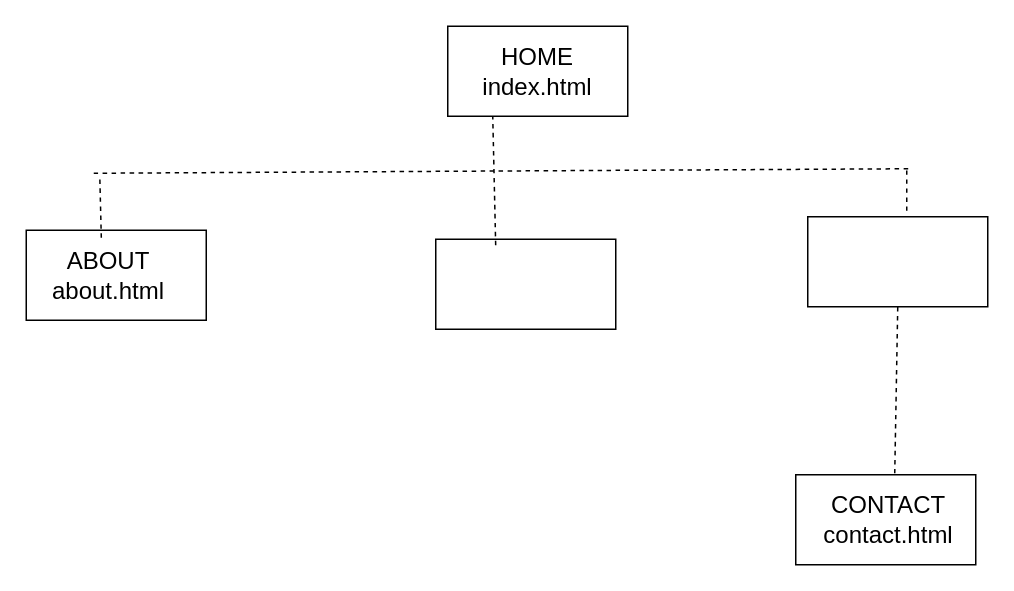
Some shapes in this 1014 by 591 pixel diagram are drawn without their labels. The centre of each missing label's shape, as x and y in pixels:
"DATA data.html" belongs at pixel 897 261.
"GALLERY gallery.html" belongs at pixel 525 283.
